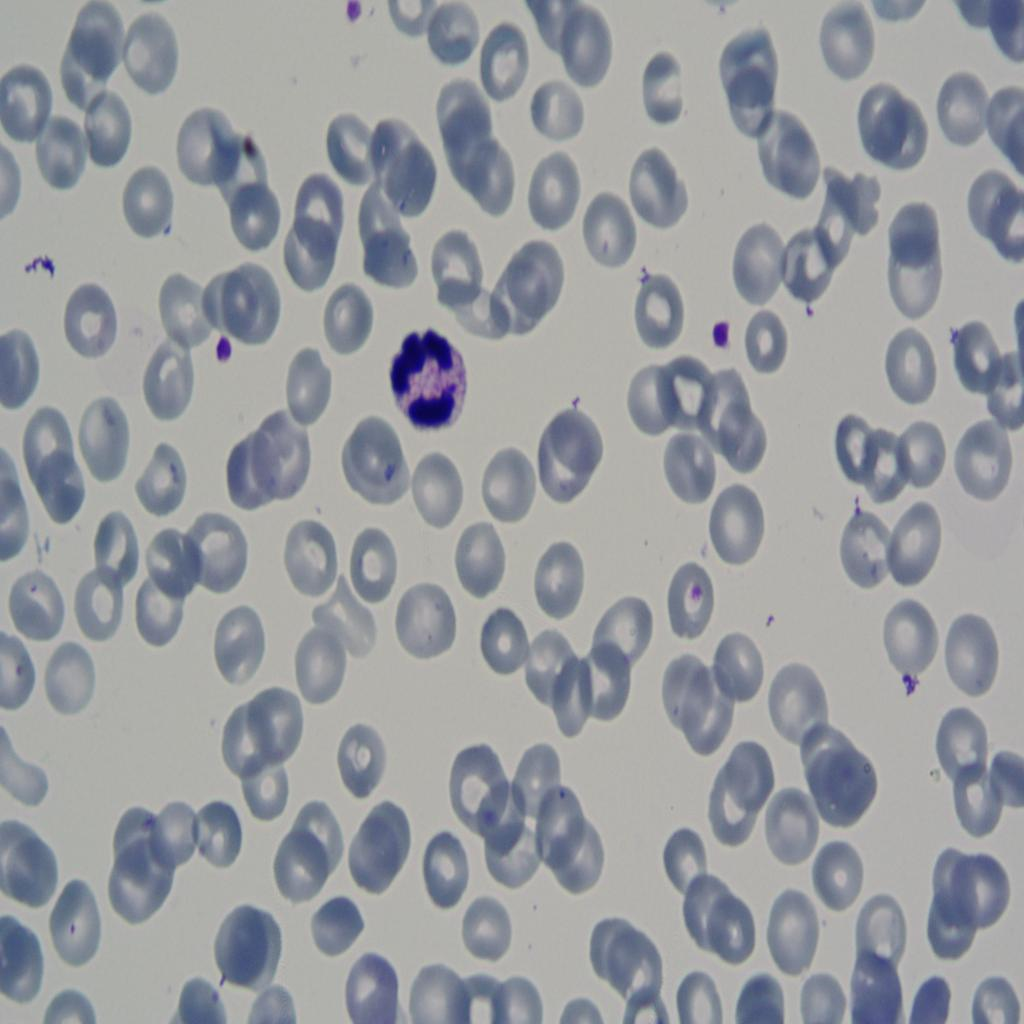Neutrofil: (382, 312, 483, 436)
Platelet: (706, 303, 741, 366), (893, 650, 931, 700), (332, 0, 372, 33), (209, 328, 233, 378)
